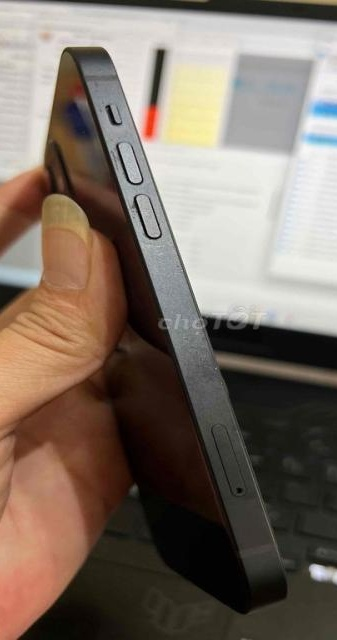scratch: (84, 66, 186, 273)
